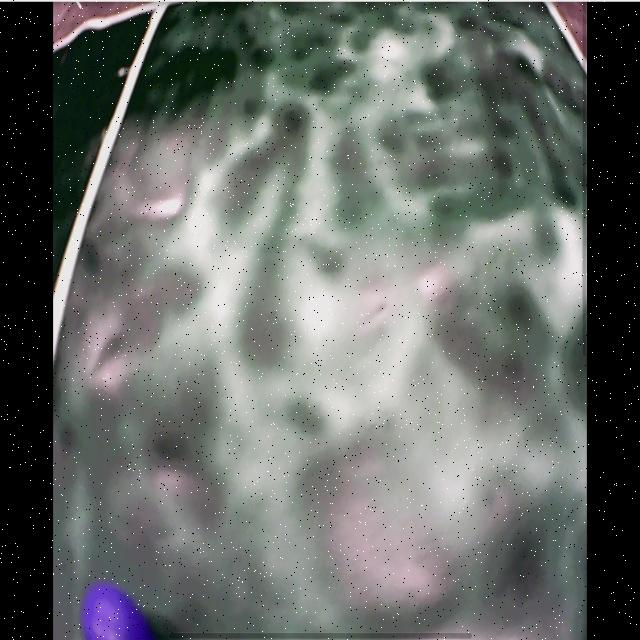ball: (80, 583, 148, 640)
